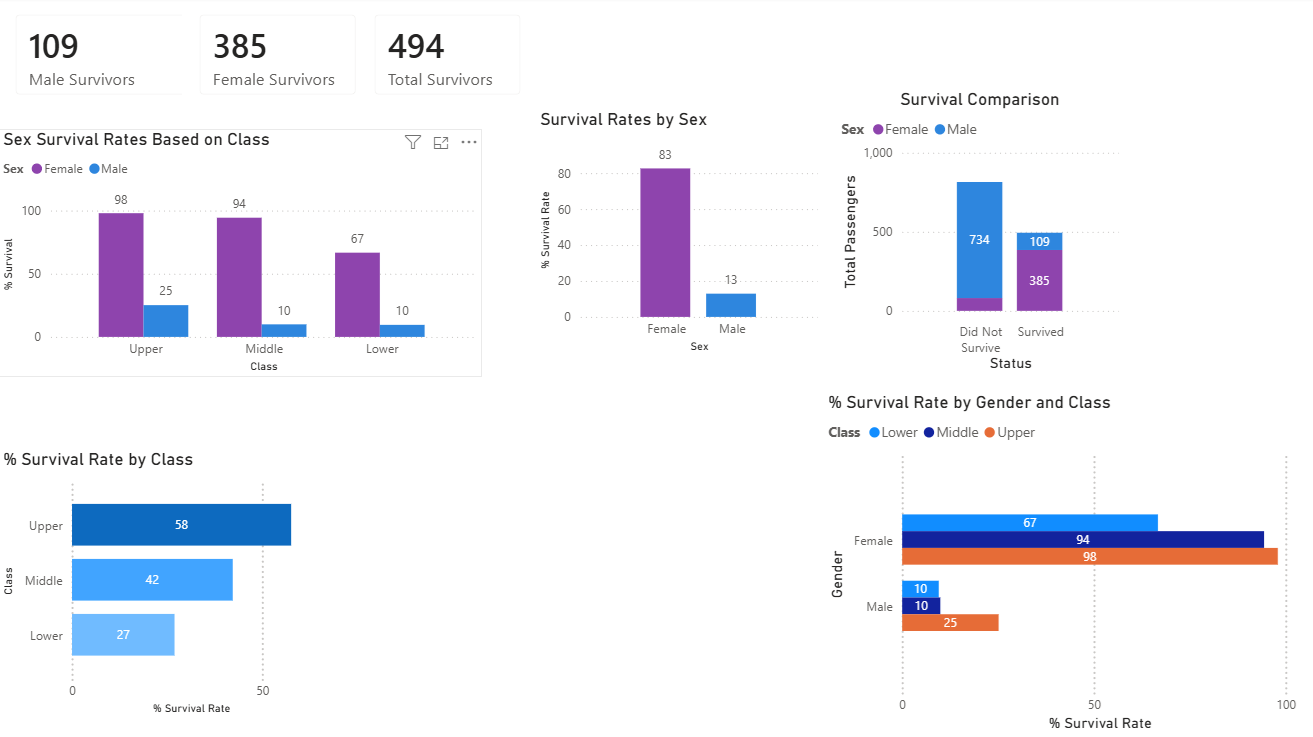

This screenshot's page, from the dashboard's own definition file:
{"tool":"powerbi","page":{"name":"Gender  and Class","canvas":[1280,720],"ordinal":2},"visuals":[{"type":"columnChart","title":"Survival Comparison","fields":{"Category":["gold fact_table.Status Var"],"Y":["CountNonNull(gold fact_table.Status)"],"Series":["gold fact_table.Sex"]},"box":[815.1,89.5,280.1,280.1],"z":0},{"type":"clusteredColumnChart","title":"Sex Survival Rates Based on Class","fields":{"Y":["gold fact_table.Survival Rate"],"Category":["gold fact_table.Class"],"Series":["gold fact_table.Sex"]},"box":[0,128.4,470.8,241.2],"z":1000},{"type":"columnChart","title":"Survival Rates by Sex","fields":{"Category":["gold fact_table.Sex"],"Y":["gold fact_table.Survival Rate"]},"box":[522.3,108.9,280.1,241.2],"z":2000},{"type":"cardVisual","fields":{"Data":["gold fact_table.Male Survivors"]},"box":[0,0,207.2,112.8],"z":3000},{"type":"cardVisual","fields":{"Data":["gold fact_table.Female Survivors"]},"box":[179,0,186.7,112.8],"z":4000},{"type":"cardVisual","fields":{"Data":["gold fact_table.Total Survivors"]},"box":[349.2,0,176,112.8],"z":5000},{"type":"clusteredBarChart","fields":{"Y":["gold fact_table.Survival Rate"],"Category":["gold fact_table.Sex"],"Series":["gold fact_table.Class"]},"box":[802.4,384.2,477.6,335.6],"z":6000},{"type":"clusteredBarChart","fields":{"Y":["gold fact_table.Survival Rate"],"Category":["gold fact_table.Class"]},"box":[0,439.6,317.1,262.6],"z":7000}]}

Visuals, with their boxes in screenshot pixels (x1, y1, x2, y2), scaled from the page's 1280x720 canvas onto the 1313x737 screenshot:
"Survival Comparison" columnChart: crop(836, 92, 1123, 378)
"Sex Survival Rates Based on Class" clusteredColumnChart: crop(0, 131, 483, 378)
"Survival Rates by Sex" columnChart: crop(536, 111, 823, 358)
cardVisual - gold fact_table.Male Survivors: crop(0, 0, 213, 115)
cardVisual - gold fact_table.Female Survivors: crop(184, 0, 375, 115)
cardVisual - gold fact_table.Total Survivors: crop(358, 0, 539, 115)
clusteredBarChart - gold fact_table.Survival Rate x gold fact_table.Sex: crop(823, 393, 1312, 736)
clusteredBarChart - gold fact_table.Survival Rate x gold fact_table.Class: crop(0, 450, 325, 719)
